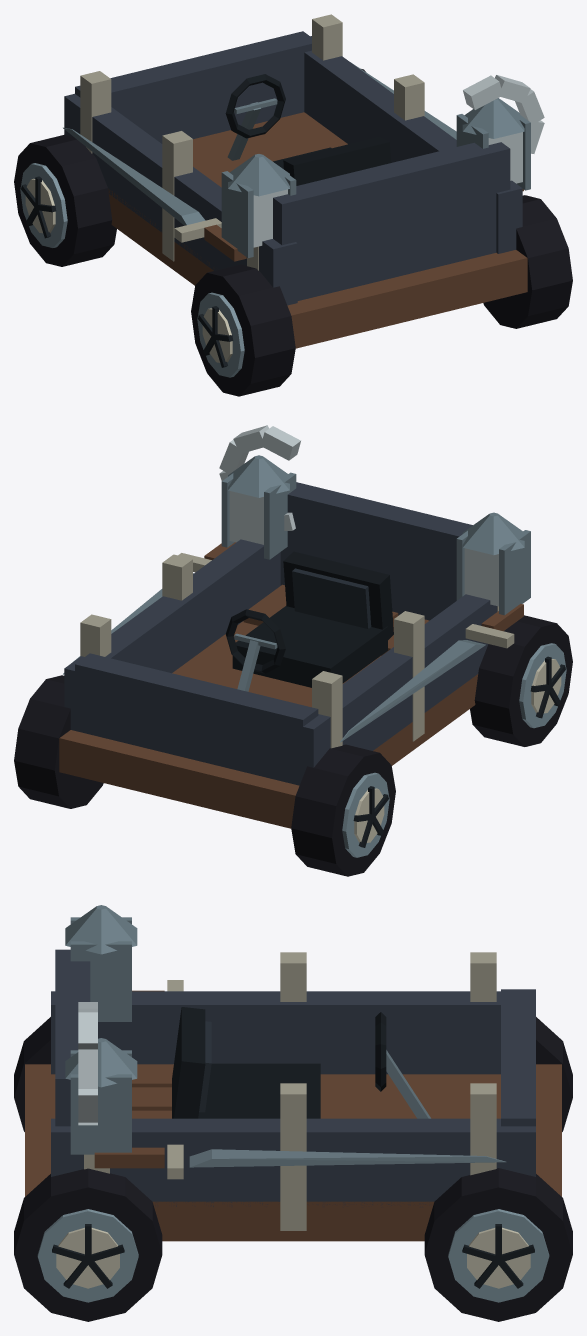
File: kart.glb
3 views of the same model, one above another, from view 1: azimuth 30°, elevation 25°; view 2: azimuth 150°, elevation 25°; view 3: azimuth 270°, elevation 25° (orthographic). The views are drawn at different scales.
Visible parts, largest first — view 1: identity-wagon-wagon-timber-coach, wheel-rear-left, wheel-front-left, identity-wagon-motif-lanterns, wheel-rear-right, identity-wagon-driver-cockpit, identity-wagon-motif-swords, identity-wagon-motif-moon; view 2: identity-wagon-wagon-timber-coach, identity-wagon-driver-cockpit, identity-wagon-motif-lanterns, wheel-front-left, wheel-rear-left, wheel-front-right, identity-wagon-motif-swords, identity-wagon-motif-moon; view 3: identity-wagon-wagon-timber-coach, wheel-rear-right, wheel-front-right, identity-wagon-motif-lanterns, identity-wagon-driver-cockpit, identity-wagon-motif-swords, identity-wagon-motif-moon, wheel-front-left, wheel-rear-left.
Part boxes in pixels (left/top/right/bottom): identity-wagon-wagon-timber-coach: left=64, top=14, right=527, bottom=348; wheel-rear-left: left=191, top=264, right=295, bottom=396; wheel-front-left: left=14, top=135, right=116, bottom=266; identity-wagon-motif-lanterns: left=221, top=98, right=530, bottom=257; wheel-rear-right: left=483, top=195, right=572, bottom=328; identity-wagon-driver-cockpit: left=225, top=74, right=390, bottom=185; identity-wagon-motif-swords: left=63, top=62, right=523, bottom=261; identity-wagon-motif-moon: left=463, top=75, right=544, bottom=153; identity-wagon-wagon-timber-coach: left=59, top=482, right=498, bottom=828; identity-wagon-driver-cockpit: left=225, top=551, right=393, bottom=691; identity-wagon-motif-lanterns: left=221, top=455, right=530, bottom=615; wheel-front-left: left=291, top=744, right=395, bottom=876; wheel-rear-left: left=470, top=615, right=572, bottom=746; wheel-front-right: left=14, top=675, right=103, bottom=808; identity-wagon-motif-swords: left=63, top=542, right=523, bottom=742; identity-wagon-motif-moon: left=219, top=425, right=300, bottom=530; identity-wagon-wagon-timber-coach: left=25, top=949, right=561, bottom=1241; wheel-rear-right: left=14, top=1168, right=162, bottom=1321; wheel-front-right: left=424, top=1168, right=572, bottom=1321; identity-wagon-motif-lanterns: left=65, top=905, right=137, bottom=1154; identity-wagon-driver-cockpit: left=172, top=1007, right=430, bottom=1118; identity-wagon-motif-swords: left=94, top=980, right=505, bottom=1179; identity-wagon-motif-moon: left=78, top=1002, right=97, bottom=1125; wheel-front-left: left=536, top=1017, right=572, bottom=1131; wheel-rear-left: left=14, top=1017, right=50, bottom=1131.
Bounding box in the file's own units: 2.07 × 1.45 × 2.56.
